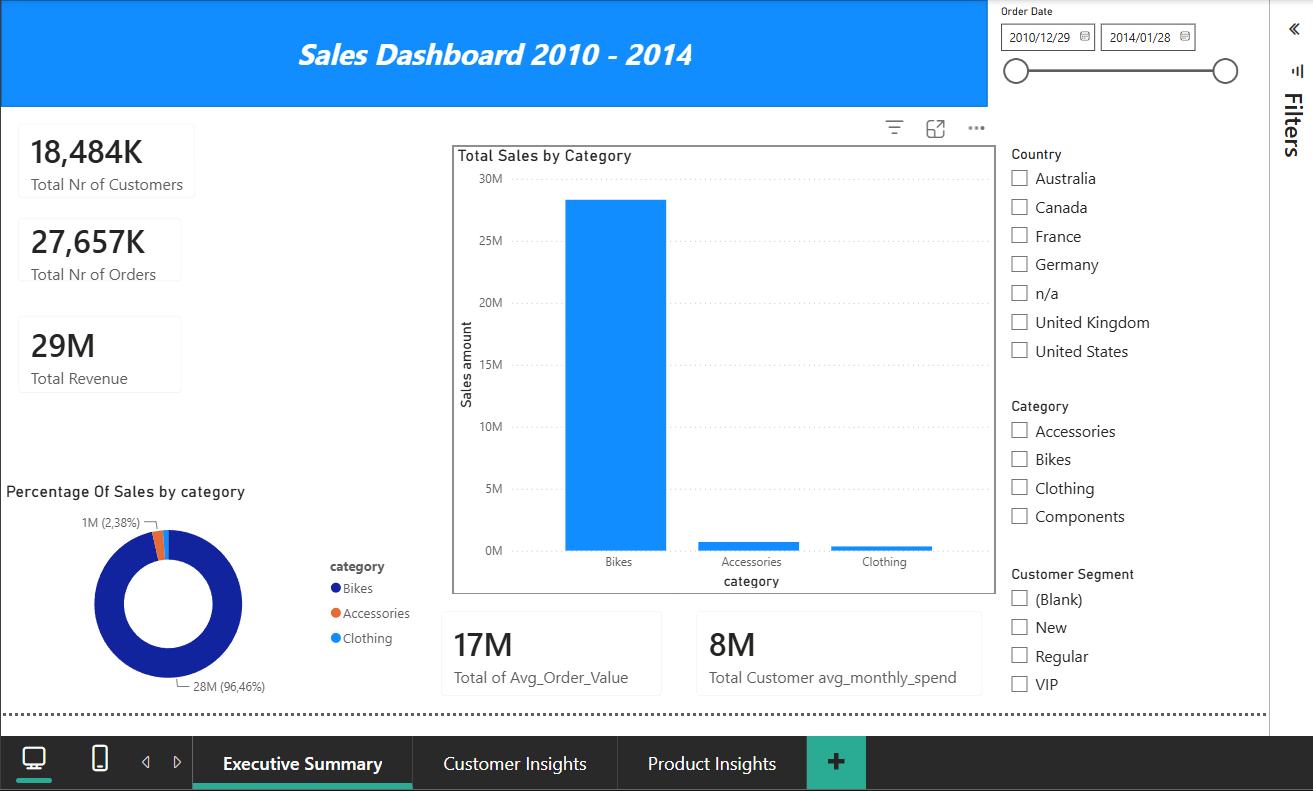

Layout of this report page (visuals, bound fields, positions):
{"tool":"powerbi","page":{"name":"Page 1","canvas":[1280,720],"ordinal":0},"visuals":[{"type":"columnChart","title":"Total Sales by Category","fields":{"Category":["gold dim_products.category"],"Y":["Sum(gold fact_sales.sales_amount)"]},"box":[455.4,147.4,548,451.7],"z":0},{"type":"slicer","fields":{"Values":["gold fact_sales.order_date"]},"box":[995.9,0,260.8,141.7],"z":1000},{"type":"slicer","fields":{"Values":["gold dim_customers.country"]},"box":[1007.3,141.7,260.8,230.6],"z":2000},{"type":"slicer","fields":{"Values":["gold dim_products.category"]},"box":[1007.3,396.9,272.1,170.1],"z":3000},{"type":"cardVisual","fields":{"Data":["Count(gold fact_sales.order_number)"]},"box":[755.9,0,240,128.5],"z":4000},{"type":"cardVisual","fields":{"Data":["Count(gold dim_customers.customer_key)"]},"box":[504.6,7.6,270.2,107.7],"z":5000},{"type":"donutChart","fields":{"Y":["Sum(gold fact_sales.sales_amount)"],"Category":["gold dim_products.category"]},"box":[0,170.1,427.1,226.8],"z":6000},{"type":"slicer","fields":{"Values":["gold V_dim_customers.customer_segment"]},"box":[1007.3,566.9,272.1,153.1],"z":7000},{"type":"cardVisual","fields":{"Data":["Sum(gold V_dim_customers.avg_monthly_spend)"]},"box":[684.1,599.1,323.2,120.9],"z":8000},{"type":"cardVisual","fields":{"Data":["Sum(gold V_dim_customers.Avg_Order_Value)"]},"box":[427.1,599.1,257,120.9],"z":9000},{"type":"textbox","box":[0,0,455.4,128.5],"z":10000},{"type":"keyDriversVisual","fields":{"Target":["gold V_dim_products.total_sales"],"ExplainBy":["Sum(gold V_dim_products.lifespan)","gold V_dim_products.category","Sum(gold V_dim_products.avg_Monthly_revenue)","Sum(gold V_dim_products.total_quantity)","gold V_dim_products.Product_segment"]},"box":[0,396.9,427.1,323.2],"z":11000}]}

Visuals, with their boxes on the page's 1280x720 design canvas (x1, y1, x2, y2). These are canvas units, not pixel positions in the 1313x791 screenshot, which may show the page scaled, cropped or inside an application window:
"Total Sales by Category" columnChart: 455,147,1003,599
slicer - gold fact_sales.order_date: 996,0,1257,142
slicer - gold dim_customers.country: 1007,142,1268,372
slicer - gold dim_products.category: 1007,397,1279,567
cardVisual - Count(gold fact_sales.order_number): 756,0,996,128
cardVisual - Count(gold dim_customers.customer_key): 505,8,775,115
donutChart - Sum(gold fact_sales.sales_amount) x gold dim_products.category: 0,170,427,397
slicer - gold V_dim_customers.customer_segment: 1007,567,1279,720
cardVisual - Sum(gold V_dim_customers.avg_monthly_spend): 684,599,1007,720
cardVisual - Sum(gold V_dim_customers.Avg_Order_Value): 427,599,684,720
textbox: 0,0,455,128
keyDriversVisual - gold V_dim_products.total_sales x Sum(gold V_dim_products.lifespan): 0,397,427,720
